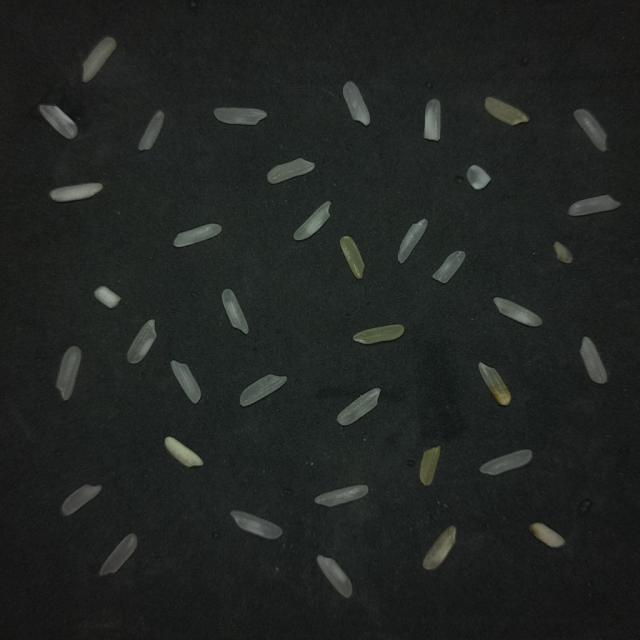broken: (39, 105, 78, 139), (398, 219, 427, 263), (61, 485, 102, 516), (127, 320, 156, 363), (267, 158, 314, 183), (432, 251, 465, 283), (139, 110, 164, 151), (424, 99, 441, 141), (467, 165, 491, 189)
chalky: (165, 437, 203, 467), (50, 183, 103, 202), (530, 523, 564, 548), (94, 286, 121, 308)
discolored: (423, 526, 456, 570), (479, 362, 511, 406), (485, 97, 529, 126), (340, 236, 364, 279), (353, 325, 404, 344), (420, 446, 440, 486), (554, 242, 573, 264)
whole: (337, 388, 381, 425), (230, 510, 283, 539), (82, 37, 116, 82), (100, 534, 137, 575), (317, 555, 352, 598), (240, 375, 287, 406), (294, 201, 331, 240), (494, 297, 542, 326), (56, 346, 81, 400), (574, 109, 606, 151), (480, 450, 532, 475), (171, 360, 201, 403), (580, 337, 607, 383), (343, 82, 370, 126), (222, 289, 248, 334), (315, 485, 368, 506), (174, 224, 221, 247), (569, 195, 620, 216), (214, 108, 266, 125)
